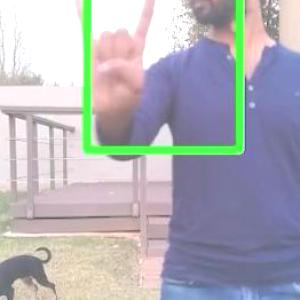takeoff-hand: (63, 0, 163, 128)
